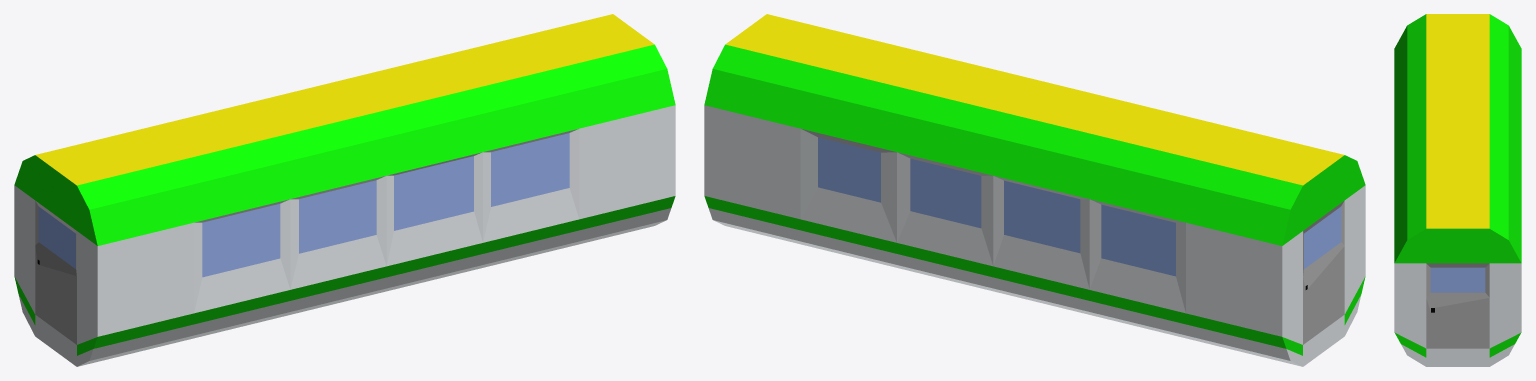
File: Train_Body(Green).fbx
3 views of the same model, side by side, from view 1: azimuth 30°, elevation 25°; view 2: azimuth 150°, elevation 25°; view 3: azimuth 270°, elevation 25° (orthographic). The views are drawn at different scales.
Visible parts, largest first — view 1: Train_Body; view 2: Train_Body; view 3: Train_Body.
Boxes of the visible parts, <box> form: Train_Body: <box>14,14,675,366</box>; Train_Body: <box>704,14,1365,366</box>; Train_Body: <box>1394,14,1521,366</box>.
Size of the model in its own units: 400 by 120 by 100.
